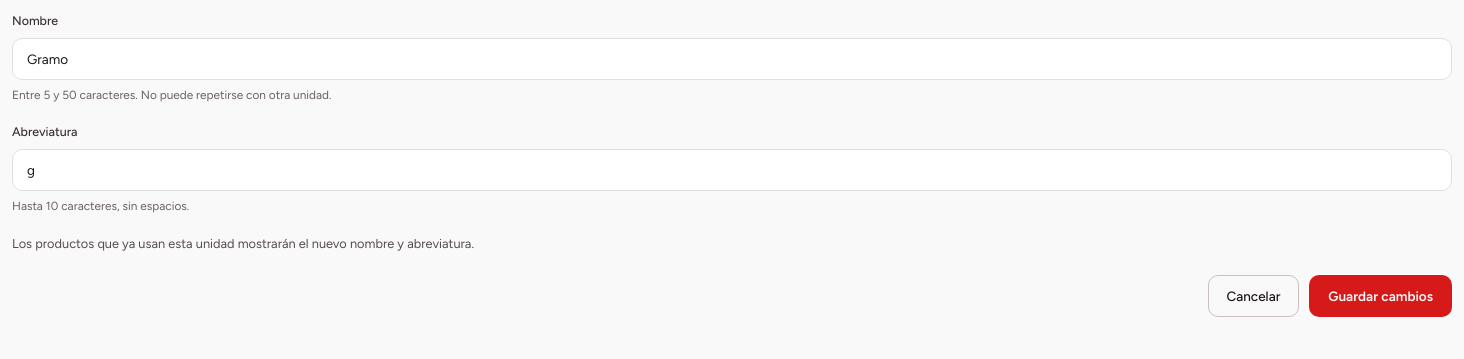
Test: EditUnitForm › blocks an abbreviation used by another unit, ignoring case
Replace the text in the field labelled "Abreviatura" with "KG" at (732, 170), box [12,149,1452,191]
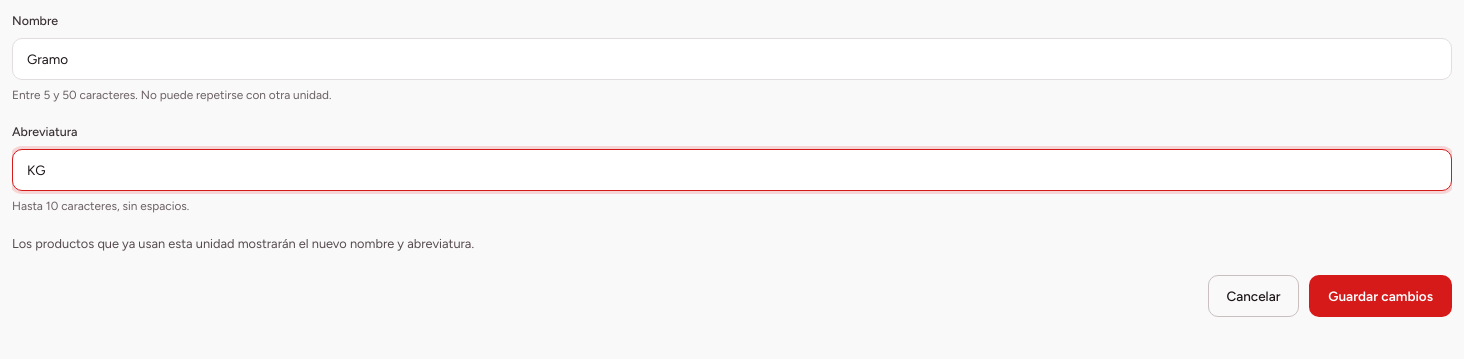
Click the button "Guardar cambios" at (1381, 296), box [1309,275,1452,317]
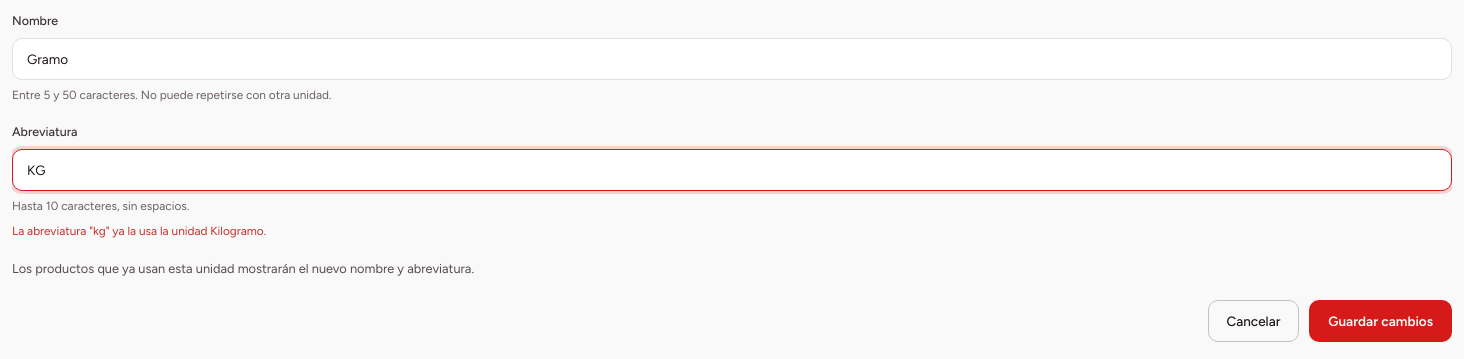
Result: the text "La abreviatura \"kg\" ya la usa la unidad Kilogramo." is shown at [12,224,266,238]
